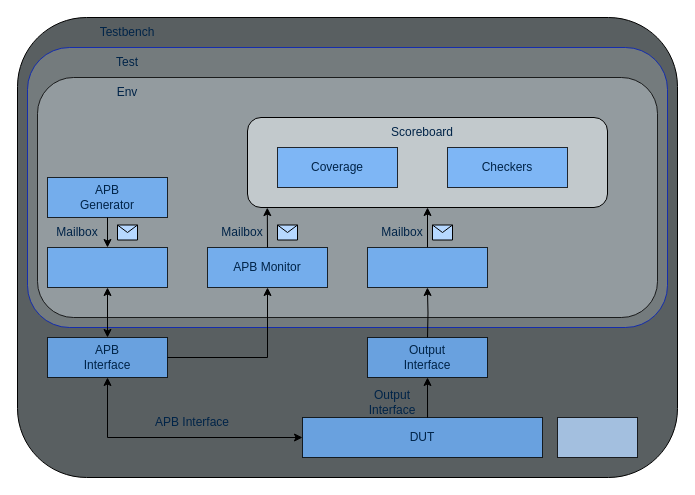
This 695x495 diagram has some shape labels left out. Here are the shapes that lost their labels. From the top down, the centre of each, then its label:
At (107,267): "APB Driver".
At (427,267): "Output Monitor".
At (597,437): "Clock and Reset Generator".
